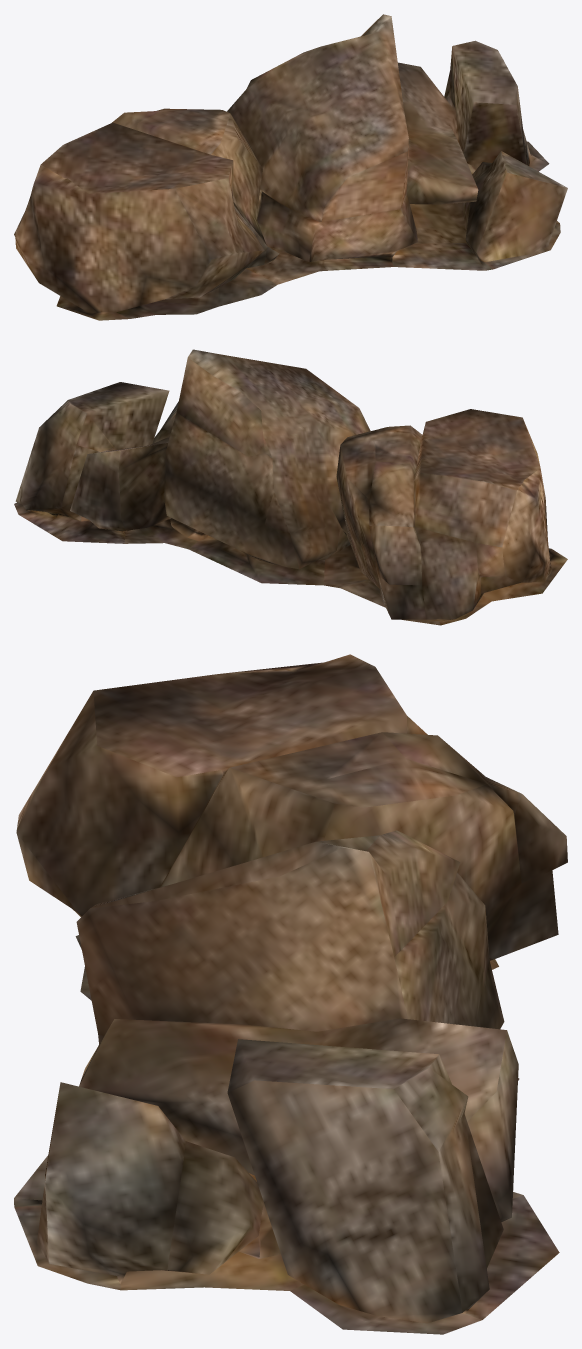
The model's file is namaqualand_boulder_02.lod.glb.
The picture shows the model from 3 angles, top to bottom: view 1: azimuth 30°, elevation 25°; view 2: azimuth 150°, elevation 25°; view 3: azimuth 270°, elevation 25°; orthographic projection. The views are drawn at different scales.
Parts seen in each view (by area): view 1: boulder_02; view 2: boulder_02; view 3: boulder_02.
Boxes of the visible parts, x1,y1,x2,y2 form: boulder_02: (14,14,567,320); boulder_02: (14,349,567,625); boulder_02: (14,654,567,1334).
Size of the model in its own units: 2.51 by 0.8696 by 1.23.
1 material, 1 textured.
